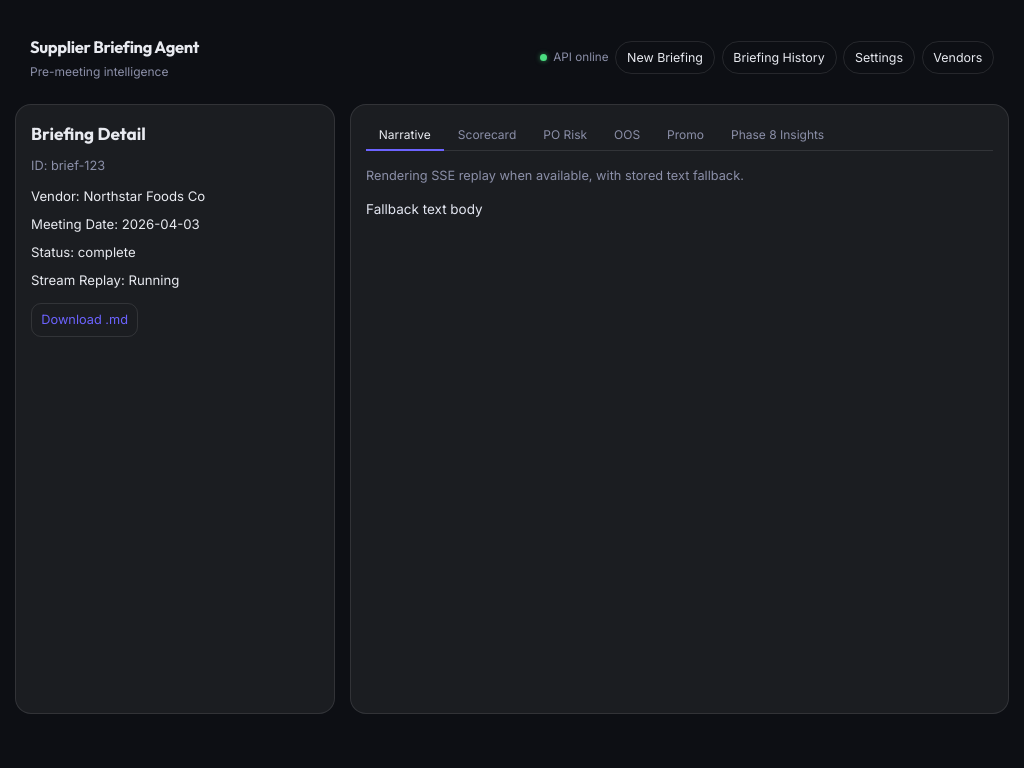
it: BriefingDetailPage › switching to Scorecard tab shows scorecard no-data when scorecard is absent
Expected: the text "ID: brief-123" is shown, [31, 158, 105, 173]
Click the button "Scorecard" at (487,135), box [445, 120, 529, 151]
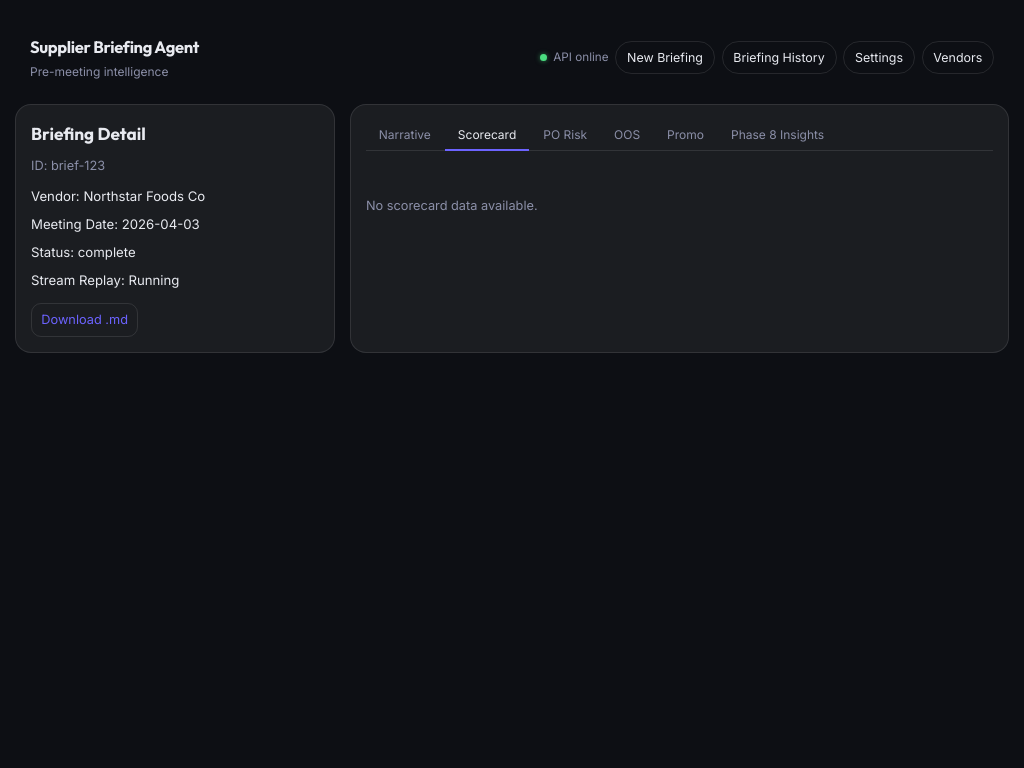
Result: the text "No scorecard data available." is shown at [366, 198, 538, 213]
Result: the text "Fallback text body" is gone
